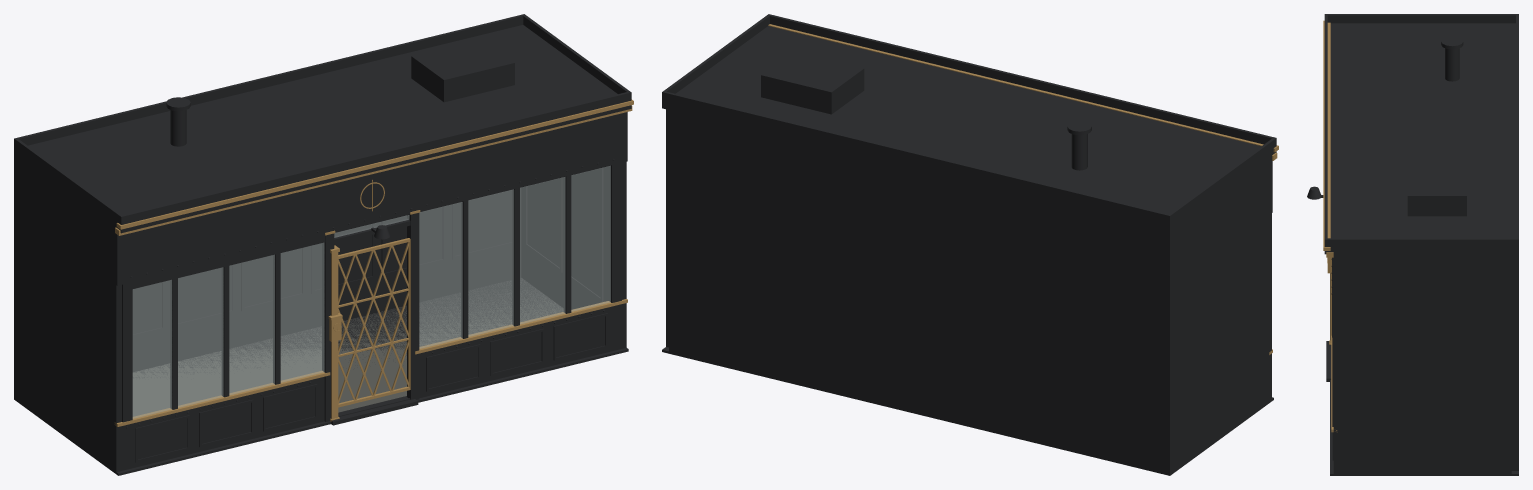
The model's file is watch_room.glb.
3 views of the same model, side by side, from view 1: azimuth 30°, elevation 25°; view 2: azimuth 150°, elevation 25°; view 3: azimuth 270°, elevation 25° (orthographic). The views are drawn at different scales.
Visible parts, largest first — view 1: watch_room, IA_watch_gate; view 2: watch_room; view 3: watch_room.
Boxes of the visible parts, box(x1,y1,x2,y2) form: watch_room: box(14, 14, 633, 475); IA_watch_gate: box(328, 238, 410, 421); watch_room: box(662, 14, 1278, 475); watch_room: box(1307, 14, 1518, 475).
Size of the model in its own units: 7.24 by 3.95 by 2.86.
